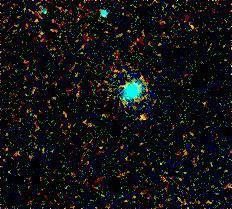star: (132, 105, 162, 135)
